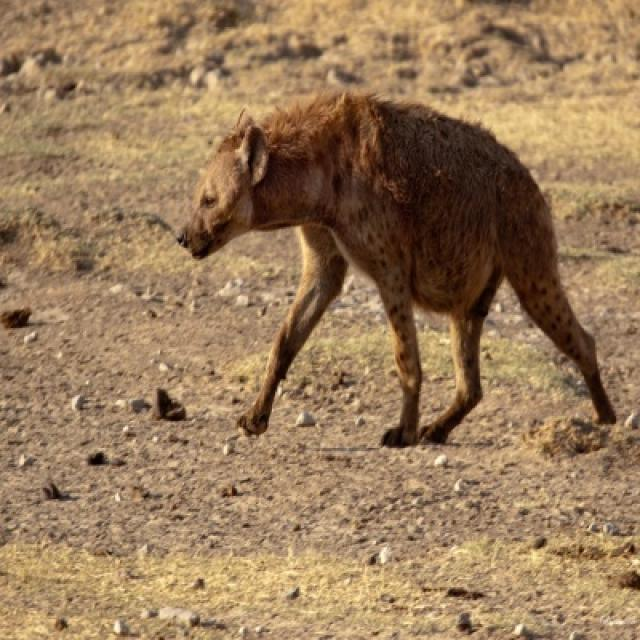hyena: (176, 90, 618, 446)
